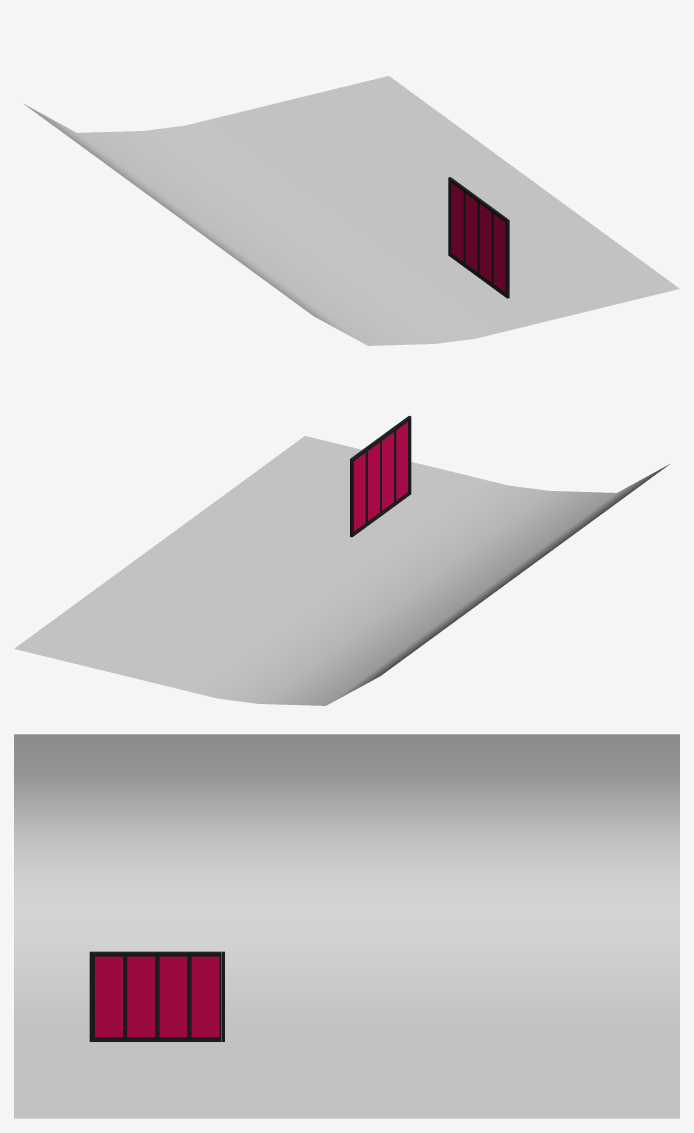
Rendered from uploads_files_2760025_Slidable+4+Panel.glb.
The picture shows the model from 3 angles, top to bottom: view 1: azimuth 30°, elevation 25°; view 2: azimuth 150°, elevation 25°; view 3: azimuth 270°, elevation 25°; orthographic projection. The views are drawn at different scales.
Parts seen in each view (by area): view 1: Floor, Door 3, Door 1, Door 2, Door 4; view 2: Floor, Door 4, Door 3, Door 2, Door 1; view 3: Floor, Door 2, Door 4, Door 3, Door 1.
Boxes of the visible parts, left/top/right/bottom form: Floor: left=24, top=76, right=679, bottom=345; Door 3: left=478, top=201, right=492, bottom=285; Door 1: left=450, top=180, right=464, bottom=264; Door 2: left=464, top=191, right=478, bottom=274; Door 4: left=492, top=211, right=505, bottom=295; Floor: left=14, top=436, right=669, bottom=705; Door 4: left=395, top=419, right=409, bottom=503; Door 3: left=381, top=429, right=395, bottom=513; Door 2: left=367, top=440, right=381, bottom=524; Door 1: left=353, top=450, right=367, bottom=533; Floor: left=14, top=734, right=679, bottom=1118; Door 2: left=157, top=954, right=189, bottom=1040; Door 4: left=93, top=954, right=125, bottom=1040; Door 3: left=125, top=954, right=157, bottom=1040; Door 1: left=189, top=954, right=221, bottom=1040.
Size of the model in its own units: 15.38 by 6 by 20.67.
